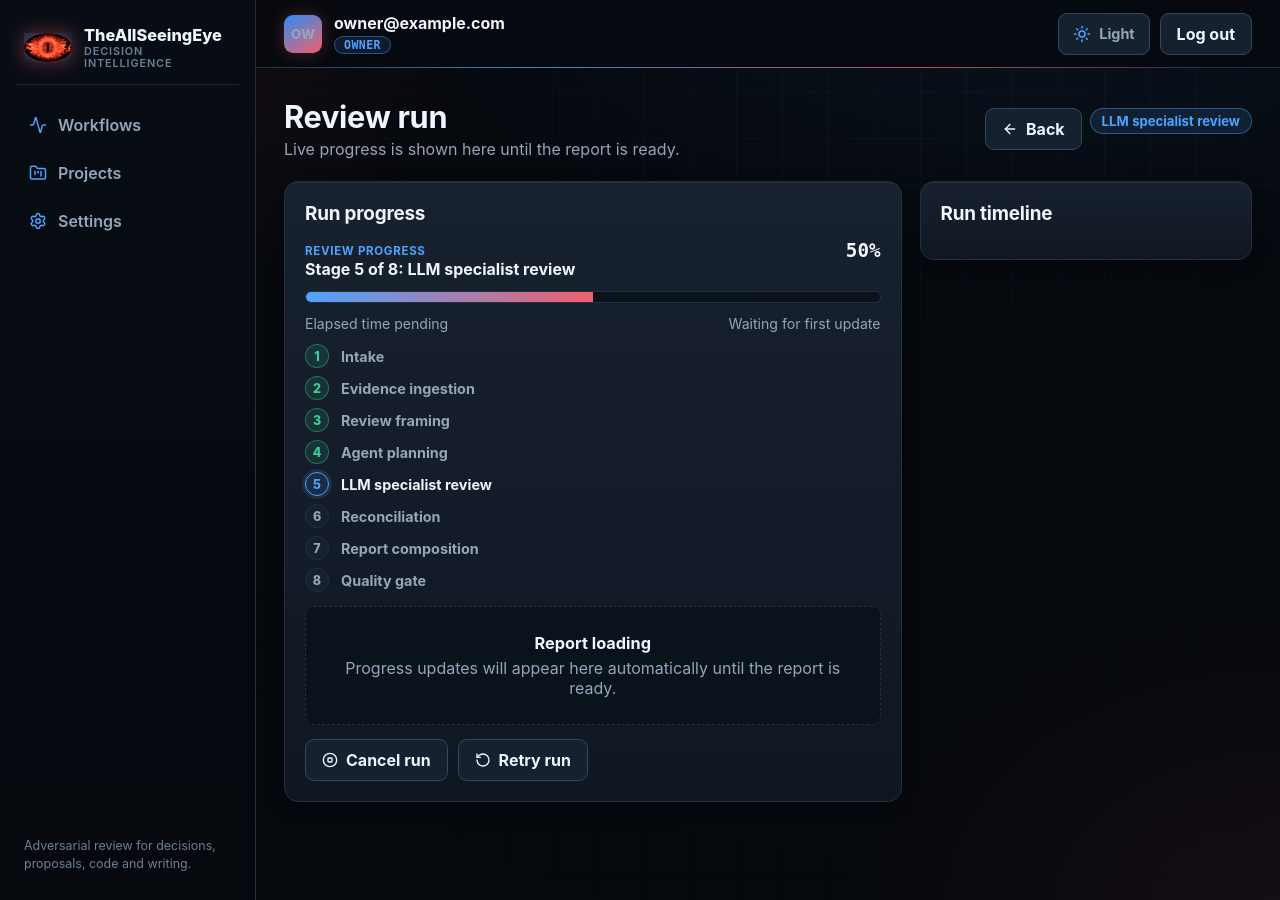
Scenario: ReportPage run controls › surfaces cancel and retry failures
This screenshot has width=1280, height=900.
Expected: the text "Report loading" is shown, [534,633,651,653]
Step 1. Click the button "Cancel run" → click(376, 760), box [305,739,448,781]
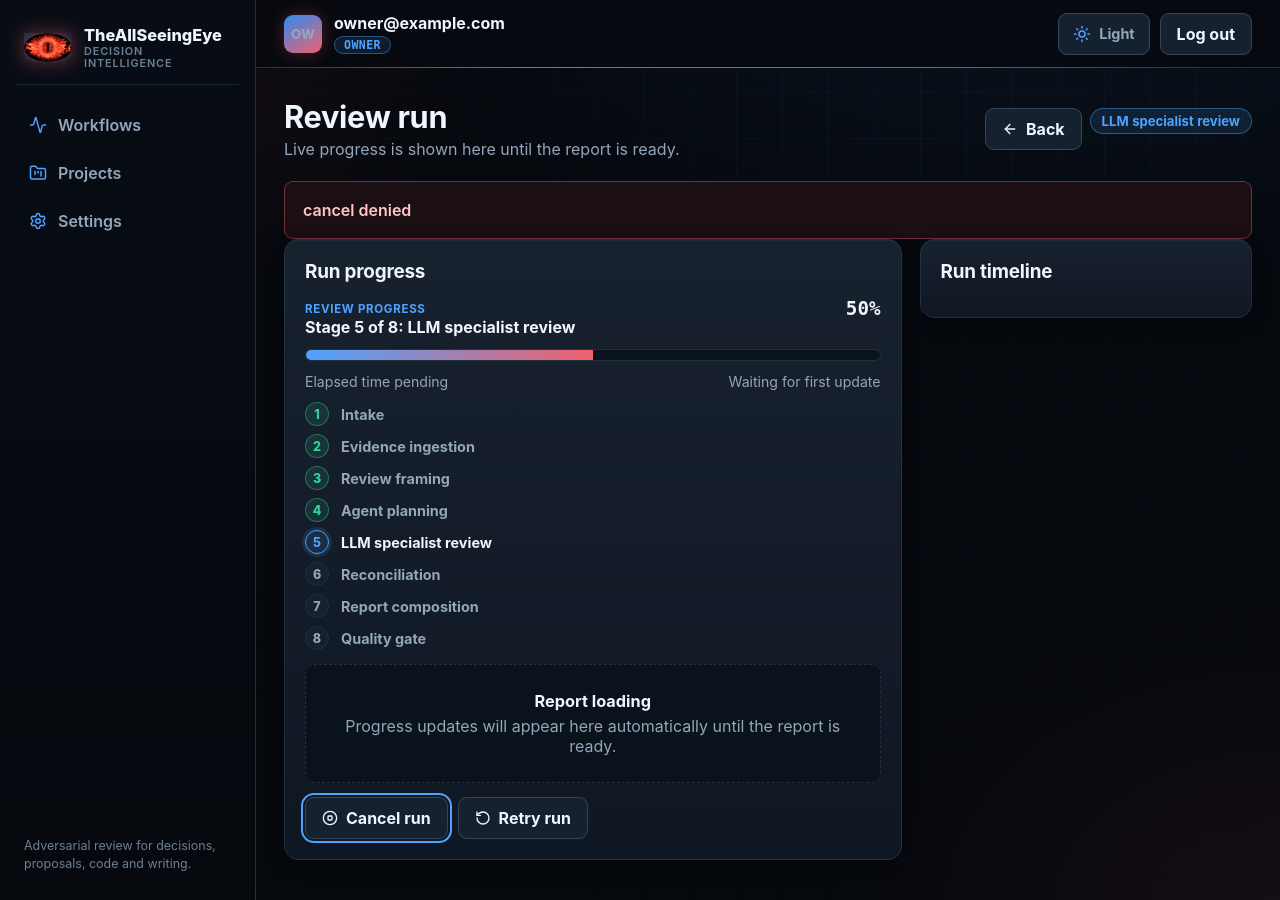
Expected: the message "cancel denied" is shown, [284,181,1252,239]
Step 2. Click the button "Retry run" → click(523, 818), box [458,797,588,839]
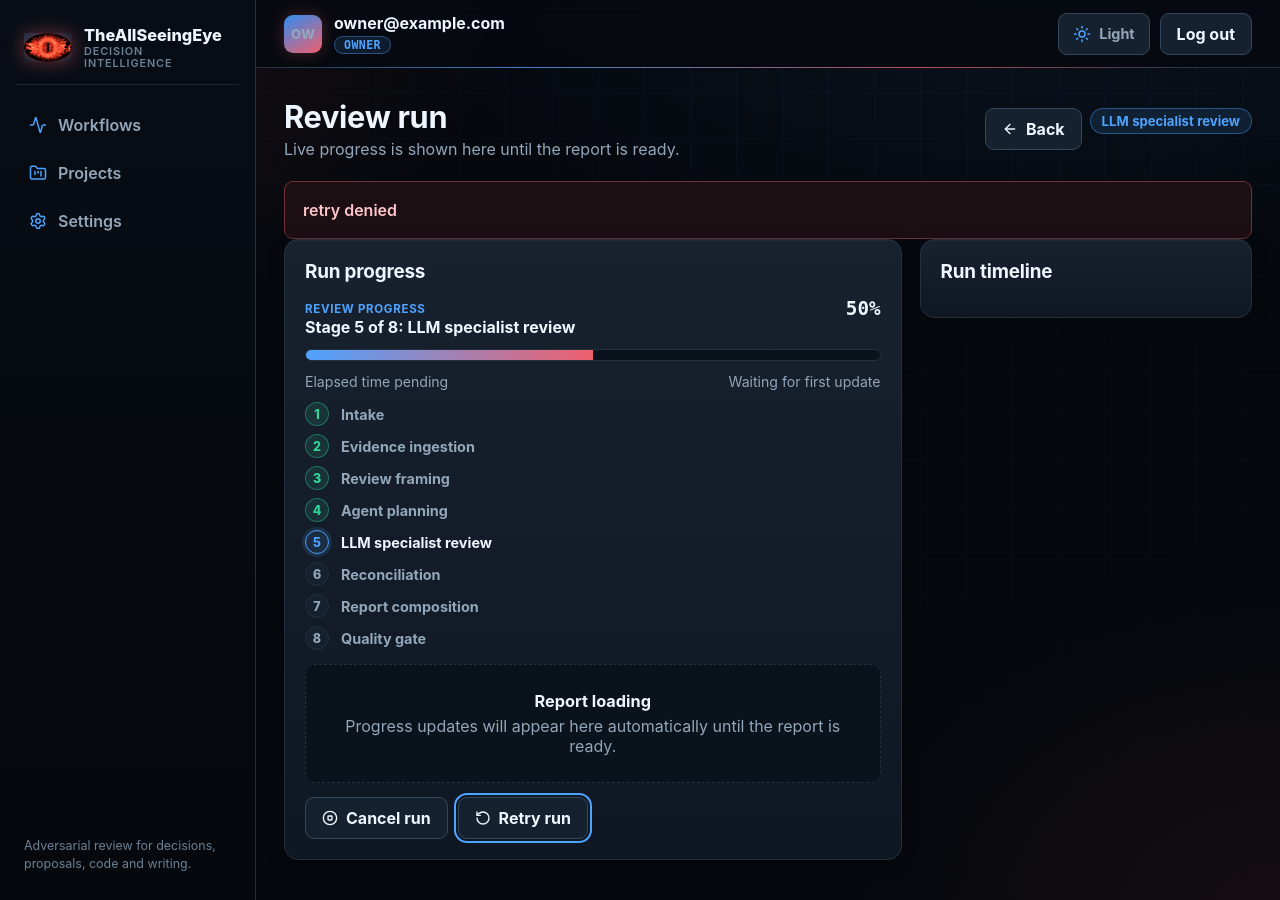
Expected: the message "retry denied" is shown, [284,181,1252,239]
